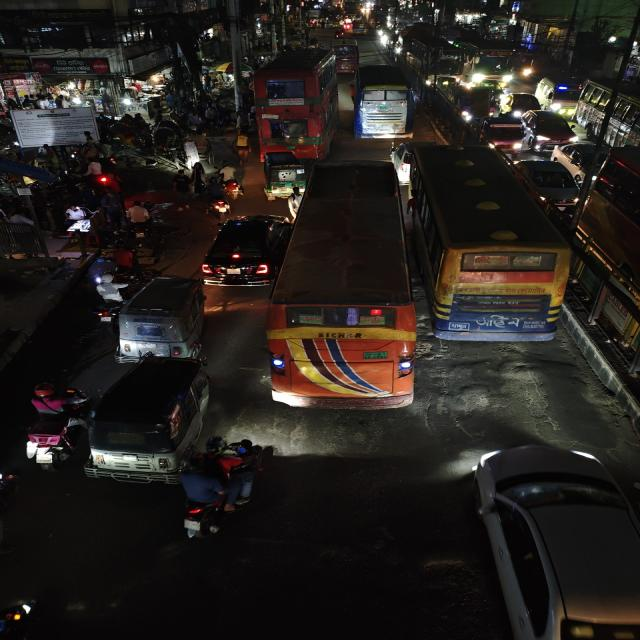bus: (269, 161, 418, 424), (405, 143, 573, 342), (249, 47, 338, 161), (576, 76, 640, 153), (349, 64, 411, 143), (409, 36, 464, 88), (461, 37, 513, 87), (334, 43, 360, 73)
car: (467, 441, 639, 640), (203, 210, 287, 284), (513, 149, 577, 207), (519, 110, 578, 152), (533, 77, 576, 115), (499, 92, 535, 116)
cng: (88, 360, 206, 482), (120, 272, 202, 371), (256, 150, 303, 197)
motorcycle: (181, 431, 265, 546), (16, 386, 90, 475), (82, 265, 133, 324), (122, 202, 156, 243), (212, 161, 244, 200), (80, 158, 116, 189)
pedestrian: (167, 166, 194, 216)
pickup_van: (474, 112, 523, 153)
rickshaw: (180, 131, 218, 161)
